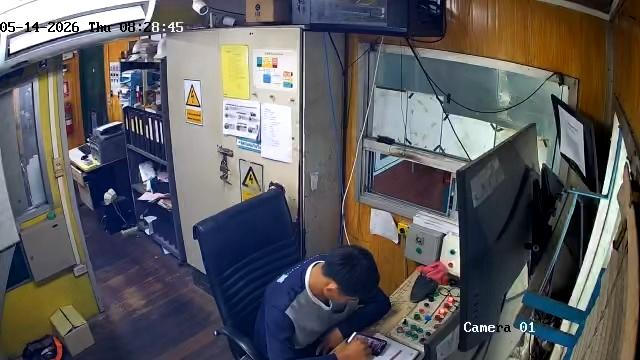Head: (321, 245, 380, 303)
People: (254, 244, 391, 360)
Phone: (346, 332, 387, 356)
